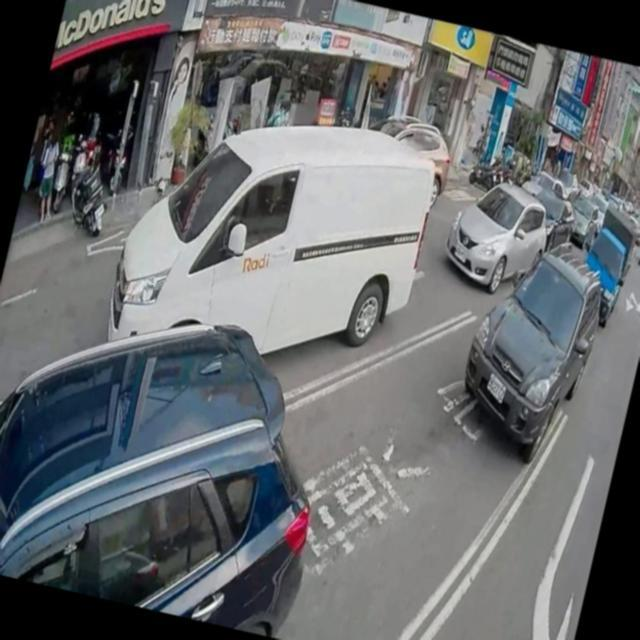person: (22, 128, 62, 226), (76, 109, 100, 163), (258, 102, 279, 130), (274, 98, 290, 124)
